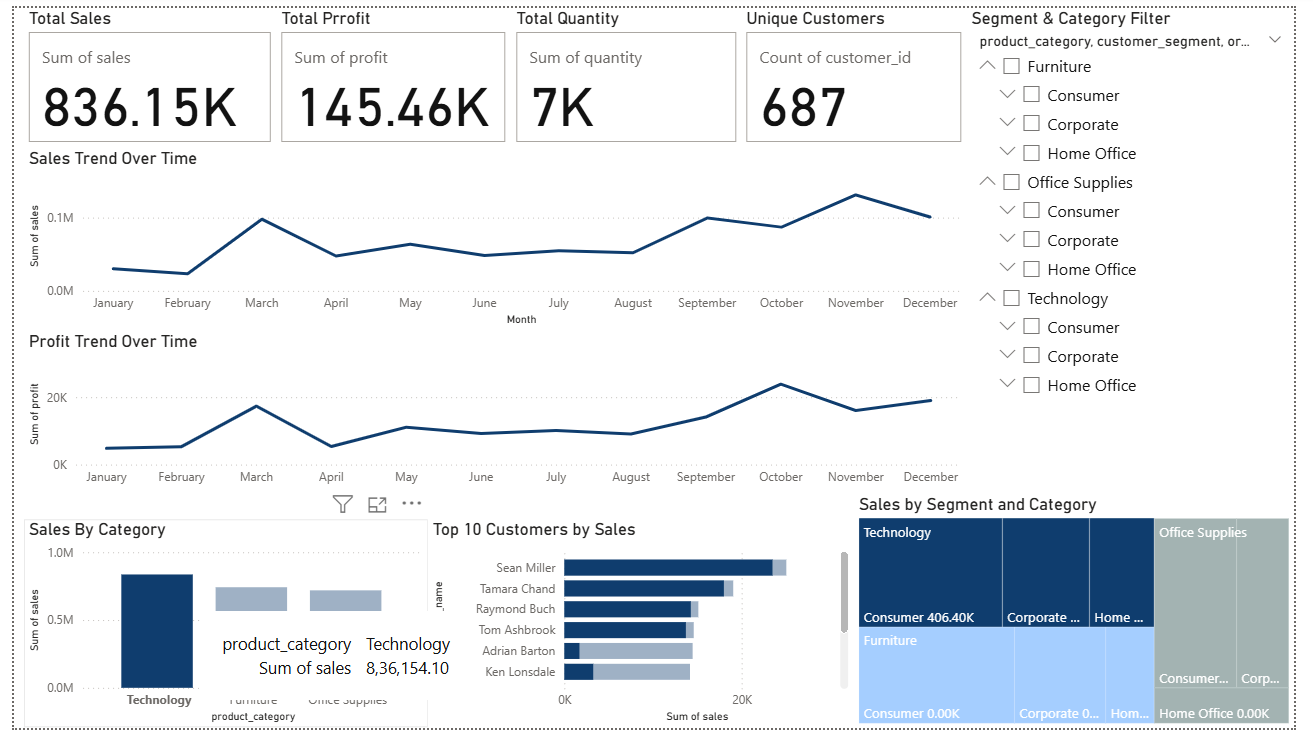

Layout of this report page (visuals, bound fields, positions):
{"tool":"powerbi","page":{"name":"Page 1","canvas":[1280,720],"ordinal":0},"visuals":[{"type":"cardVisual","title":"Total Sales","fields":{"Data":["Sum(public vw_sales_analysis.sales)"]},"box":[10,0,252.9,140],"z":0},{"type":"cardVisual","title":"Total Prrofit","fields":{"Data":["Sum(public vw_sales_analysis.profit)"]},"box":[262.9,0,234.3,140],"z":1000},{"type":"cardVisual","title":"Total Quantity","fields":{"Data":["Sum(public vw_sales_analysis.quantity)"]},"box":[497.1,0,230,140],"z":2000},{"type":"cardVisual","title":"Unique Customers","fields":{"Data":["Count(public vw_sales_analysis.customer_id)"]},"box":[727.1,0,225.7,140],"z":3000},{"type":"lineChart","title":"Sales Trend Over Time","fields":{"Y":["Sum(public vw_sales_analysis.sales)"],"Category":["public vw_sales_analysis.order_date.Variation.Date Hierarchy.Year","public vw_sales_analysis.order_date.Variation.Date Hierarchy.Quarter","public vw_sales_analysis.order_date.Variation.Date Hierarchy.Month","public vw_sales_analysis.order_date.Variation.Date Hierarchy.Day"]},"box":[10,140,942.9,182.9],"z":4000},{"type":"lineChart","title":"Profit Trend Over Time ","fields":{"Category":["public vw_sales_analysis.order_date.Variation.Date Hierarchy.Year","public vw_sales_analysis.order_date.Variation.Date Hierarchy.Quarter","public vw_sales_analysis.order_date.Variation.Date Hierarchy.Month","public vw_sales_analysis.order_date.Variation.Date Hierarchy.Day"],"Y":["Sum(public vw_sales_analysis.profit)"]},"box":[10,322.9,942.9,164.3],"z":5000},{"type":"clusteredColumnChart","title":"Sales By Category","fields":{"Y":["Sum(public vw_sales_analysis.sales)"],"Category":["public vw_sales_analysis.product_category"]},"box":[10,511.4,404.3,208.6],"z":6000},{"type":"barChart","title":"Top 10 Customers by Sales","fields":{"Category":["public vw_sales_analysis.customer_name"],"Y":["Sum(public vw_sales_analysis.sales)"]},"box":[414.3,511.4,425.7,208.6],"z":7000},{"type":"slicer","title":"Segment & Category Filter","fields":{"Values":["public vw_sales_analysis.product_category","public vw_sales_analysis.customer_segment","public vw_sales_analysis.order_quarter","public vw_sales_analysis.order_year"]},"box":[952.5,0,327.5,486.2],"z":8000},{"type":"treemap","title":"Sales by Segment and Category","fields":{"Group":["public vw_sales_analysis.product_category"],"Values":["Sum(public vw_sales_analysis.sales)"],"Details":["public vw_sales_analysis.customer_segment"]},"box":[840,485.7,440,234.3],"z":9000}]}

Visuals, with their boxes in screenshot pixels (x1, y1, x2, y2), scaled from the page's 1280x720 canvas onto the 1313x737 screenshot:
"Total Sales" cardVisual: {"left": 10, "top": 0, "right": 270, "bottom": 143}
"Total Prrofit" cardVisual: {"left": 270, "top": 0, "right": 510, "bottom": 143}
"Total Quantity" cardVisual: {"left": 510, "top": 0, "right": 746, "bottom": 143}
"Unique Customers" cardVisual: {"left": 746, "top": 0, "right": 977, "bottom": 143}
"Sales Trend Over Time" lineChart: {"left": 10, "top": 143, "right": 977, "bottom": 331}
"Profit Trend Over Time " lineChart: {"left": 10, "top": 331, "right": 977, "bottom": 499}
"Sales By Category" clusteredColumnChart: {"left": 10, "top": 523, "right": 425, "bottom": 736}
"Top 10 Customers by Sales" barChart: {"left": 425, "top": 523, "right": 862, "bottom": 736}
"Segment & Category Filter" slicer: {"left": 977, "top": 0, "right": 1312, "bottom": 498}
"Sales by Segment and Category" treemap: {"left": 862, "top": 497, "right": 1312, "bottom": 736}
